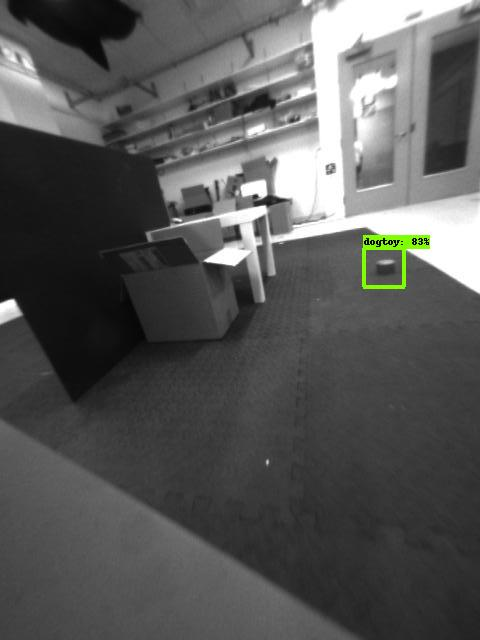dogtoy: (367, 250, 403, 283)
